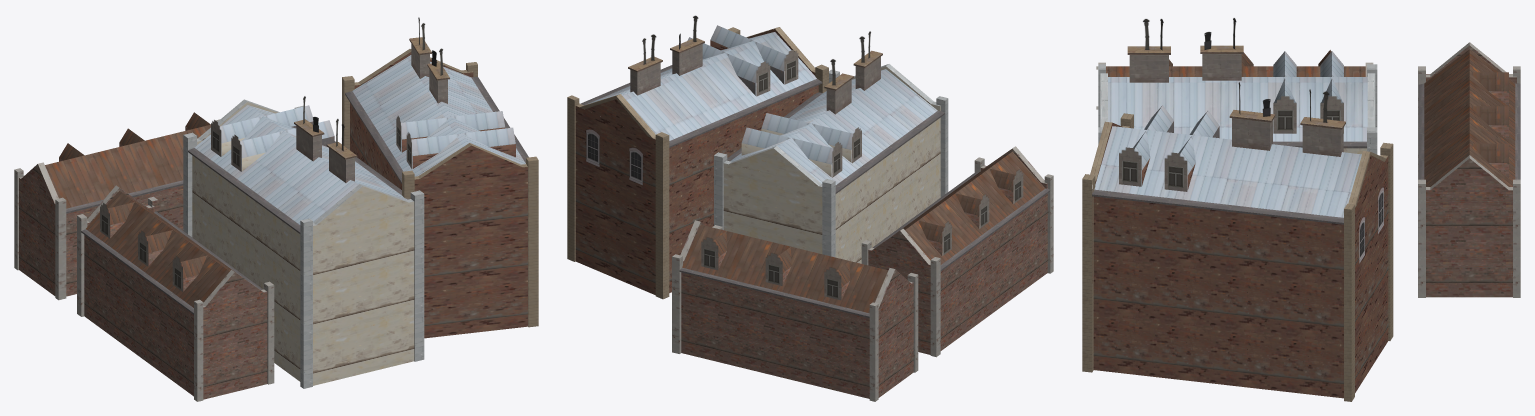
3 renders of one model, left to right at view 1: azimuth 30°, elevation 25°; view 2: azimuth 150°, elevation 25°; view 3: azimuth 270°, elevation 25°, orthographic. The views are drawn at different scales.
Visible parts, largest first — view 1: body0_model0_lod0_mesh12, body0_model0_lod0_mesh0, body0_model0_lod0_mesh5, body0_model0_lod0_mesh6, body0_model0_lod0_mesh1, body0_model0_lod0_mesh13, body0_model0_lod0_mesh2, body0_model0_lod0_mesh3, body0_model0_lod0_mesh7, body0_model0_lod0_mesh8, body0_model0_lod0_mesh4; view 2: body0_model0_lod0_mesh0, body0_model0_lod0_mesh6, body0_model0_lod0_mesh5, body0_model0_lod0_mesh12, body0_model0_lod0_mesh1, body0_model0_lod0_mesh2, body0_model0_lod0_mesh7, body0_model0_lod0_mesh3, body0_model0_lod0_mesh4, body0_model0_lod0_mesh8, body0_model0_lod0_mesh13, body0_model0_lod0_mesh11 (+1 smaller); view 3: body0_model0_lod0_mesh5, body0_model0_lod0_mesh6, body0_model0_lod0_mesh0, body0_model0_lod0_mesh1, body0_model0_lod0_mesh7, body0_model0_lod0_mesh8, body0_model0_lod0_mesh3, body0_model0_lod0_mesh2, body0_model0_lod0_mesh4, body0_model0_lod0_mesh13, body0_model0_lod0_mesh9, body0_model0_lod0_mesh11.
Boxes of the visible parts, x1=… form: body0_model0_lod0_mesh12: x1=192, y1=102, x2=414, y2=385; body0_model0_lod0_mesh0: x1=19, y1=127, x2=267, y2=399; body0_model0_lod0_mesh5: x1=350, y1=52, x2=527, y2=338; body0_model0_lod0_mesh6: x1=194, y1=55, x2=525, y2=224; body0_model0_lod0_mesh1: x1=45, y1=112, x2=239, y2=307; body0_model0_lod0_mesh13: x1=183, y1=99, x2=424, y2=388; body0_model0_lod0_mesh2: x1=14, y1=119, x2=274, y2=401; body0_model0_lod0_mesh3: x1=66, y1=76, x2=528, y2=314; body0_model0_lod0_mesh7: x1=342, y1=49, x2=538, y2=327; body0_model0_lod0_mesh8: x1=294, y1=37, x2=449, y2=182; body0_model0_lod0_mesh4: x1=100, y1=115, x2=411, y2=291; body0_model0_lod0_mesh0: x1=681, y1=148, x2=1047, y2=398; body0_model0_lod0_mesh6: x1=586, y1=25, x2=937, y2=184; body0_model0_lod0_mesh5: x1=575, y1=29, x2=818, y2=294; body0_model0_lod0_mesh12: x1=723, y1=66, x2=940, y2=263; body0_model0_lod0_mesh1: x1=682, y1=151, x2=1045, y2=313; body0_model0_lod0_mesh2: x1=672, y1=146, x2=1053, y2=401; body0_model0_lod0_mesh7: x1=567, y1=27, x2=828, y2=299; body0_model0_lod0_mesh3: x1=580, y1=65, x2=1050, y2=317; body0_model0_lod0_mesh4: x1=701, y1=49, x2=1023, y2=300; body0_model0_lod0_mesh8: x1=628, y1=38, x2=882, y2=114; body0_model0_lod0_mesh13: x1=714, y1=64, x2=948, y2=257; body0_model0_lod0_mesh11: x1=586, y1=129, x2=642, y2=185; body0_model0_lod0_mesh5: x1=1092, y1=122, x2=1388, y2=398; body0_model0_lod0_mesh6: x1=1094, y1=51, x2=1367, y2=217; body0_model0_lod0_mesh0: x1=1426, y1=45, x2=1516, y2=297; body0_model0_lod0_mesh1: x1=1106, y1=49, x2=1515, y2=186; body0_model0_lod0_mesh7: x1=1082, y1=113, x2=1393, y2=401; body0_model0_lod0_mesh8: x1=1127, y1=45, x2=1345, y2=156; body0_model0_lod0_mesh3: x1=1092, y1=83, x2=1520, y2=224; body0_model0_lod0_mesh2: x1=1096, y1=42, x2=1520, y2=297; body0_model0_lod0_mesh4: x1=1119, y1=96, x2=1343, y2=191; body0_model0_lod0_mesh13: x1=1098, y1=64, x2=1377, y2=154; body0_model0_lod0_mesh9: x1=1143, y1=18, x2=1329, y2=122; body0_model0_lod0_mesh11: x1=1359, y1=187, x2=1383, y2=263.
Size of the model in its own units: 132 by 80.65 by 112.
14 materials, 14 textured.
